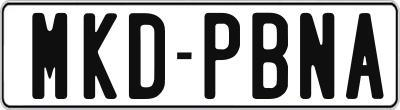A: (346, 13, 386, 105)
B: (249, 12, 285, 99)
D: (126, 10, 168, 100)
K: (82, 12, 117, 103)
M: (32, 12, 69, 100)
N: (300, 13, 340, 101)
P: (205, 12, 242, 102)
